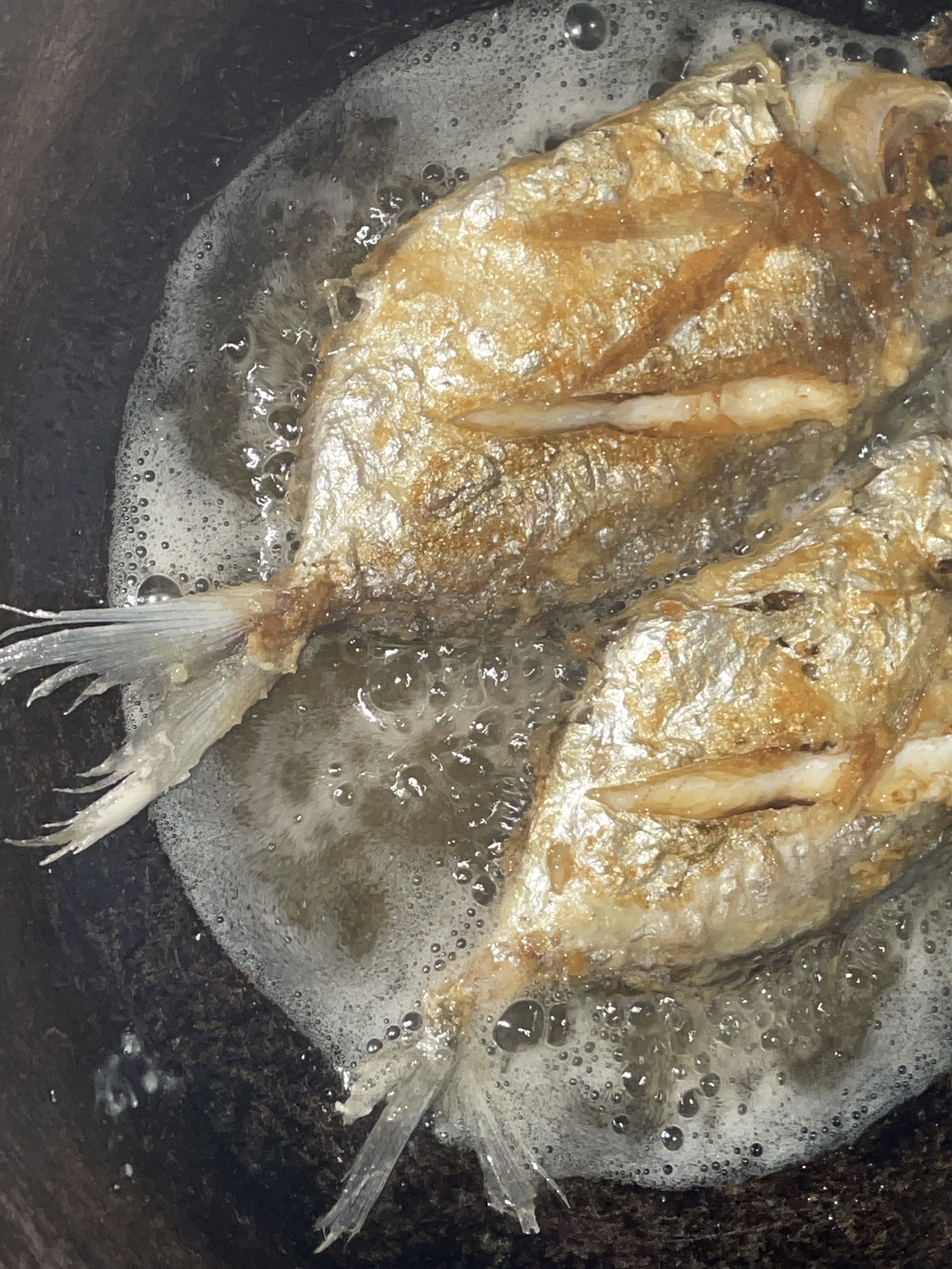non-reusable: (107, 0, 952, 1187)
